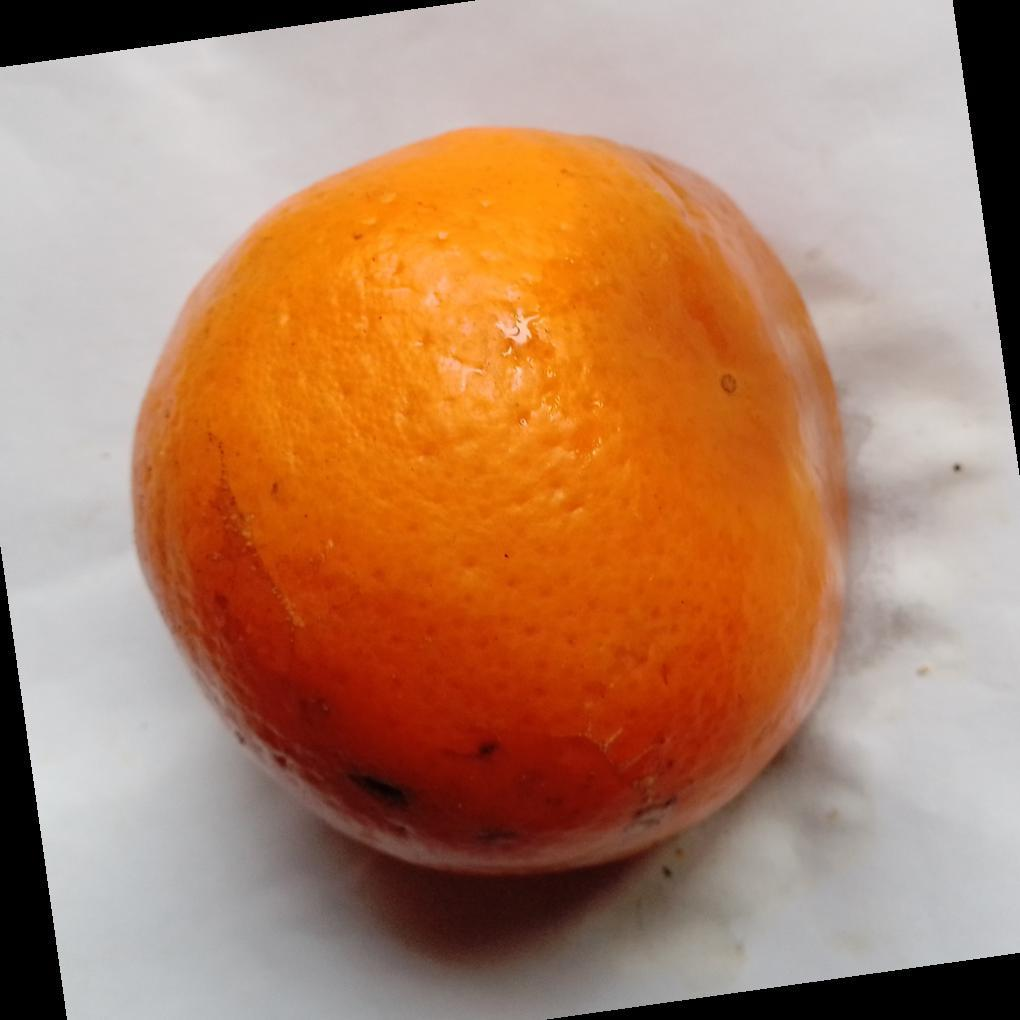FreshOrange: (128, 126, 850, 884)
